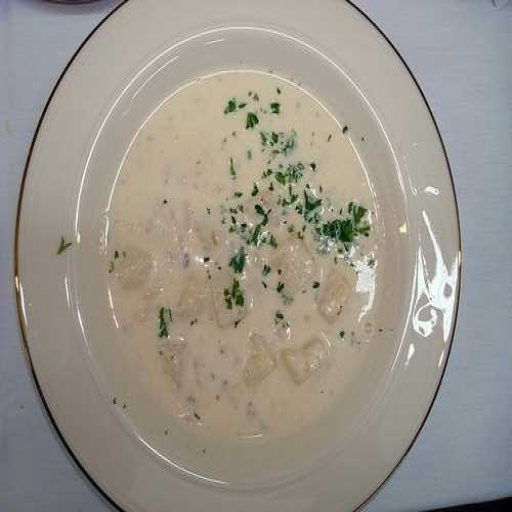piring: (14, 3, 460, 512)
